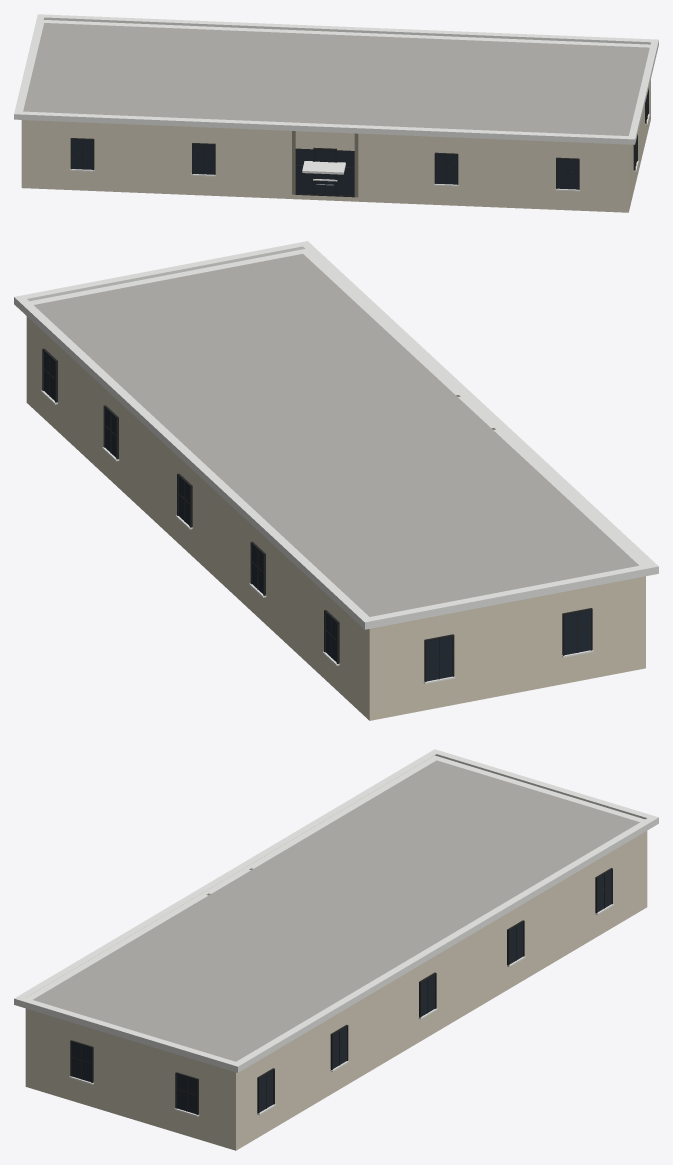
Rendered from safety_and_grounds.glb.
3 views of the same model, one above another, from view 1: azimuth 30°, elevation 25°; view 2: azimuth 150°, elevation 25°; view 3: azimuth 270°, elevation 25° (orthographic). The views are drawn at different scales.
Parts seen in each view (by area): view 1: safety_and_grounds_Roof_Membrane, safety_and_grounds_Wall_creamMetal, safety_and_grounds_Trim_White, safety_and_grounds_Glass_dark, safety_and_grounds_Frame_Dark, safety_and_grounds_Steel_Pilaster; view 2: safety_and_grounds_Roof_Membrane, safety_and_grounds_Wall_creamMetal, safety_and_grounds_Trim_White, safety_and_grounds_Glass_dark, safety_and_grounds_Frame_Dark; view 3: safety_and_grounds_Roof_Membrane, safety_and_grounds_Wall_creamMetal, safety_and_grounds_Trim_White, safety_and_grounds_Glass_dark, safety_and_grounds_Frame_Dark.
Boxes of the visible parts, left/top/right/bottom form: safety_and_grounds_Roof_Membrane: left=23, top=23, right=649, bottom=135; safety_and_grounds_Wall_creamMetal: left=21, top=79, right=650, bottom=212; safety_and_grounds_Trim_White: left=14, top=14, right=658, bottom=191; safety_and_grounds_Glass_dark: left=71, top=91, right=648, bottom=195; safety_and_grounds_Frame_Dark: left=70, top=88, right=648, bottom=197; safety_and_grounds_Steel_Pilaster: left=292, top=131, right=358, bottom=197; safety_and_grounds_Roof_Membrane: left=34, top=254, right=638, bottom=616; safety_and_grounds_Wall_creamMetal: left=26, top=316, right=645, bottom=720; safety_and_grounds_Trim_White: left=14, top=241, right=658, bottom=684; safety_and_grounds_Glass_dark: left=44, top=352, right=590, bottom=681; safety_and_grounds_Frame_Dark: left=42, top=348, right=592, bottom=682; safety_and_grounds_Roof_Membrane: left=33, top=760, right=639, bottom=1061; safety_and_grounds_Wall_creamMetal: left=25, top=831, right=647, bottom=1150; safety_and_grounds_Trim_White: left=14, top=749, right=658, bottom=1116; safety_and_grounds_Glass_dark: left=71, top=870, right=611, bottom=1114; safety_and_grounds_Frame_Dark: left=70, top=868, right=612, bottom=1114.
Size of the model in its own units: 54.34 by 7.1 by 46.64.
